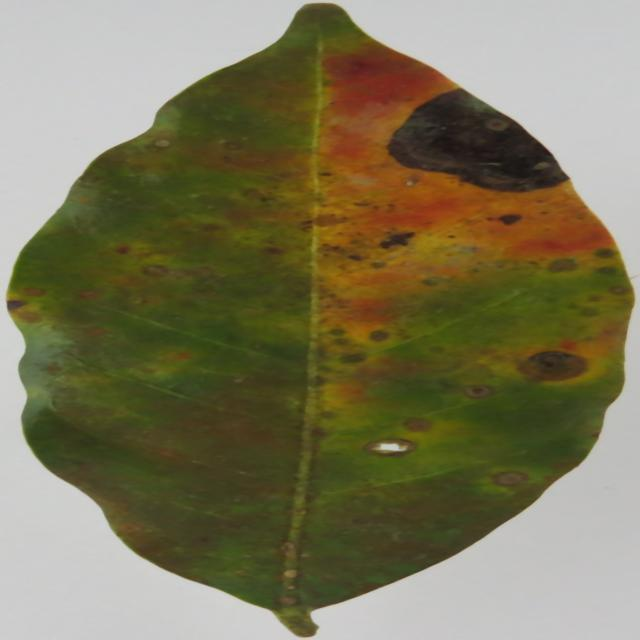DeficienciaNutricional-Fosforo: (8, 4, 632, 636)
